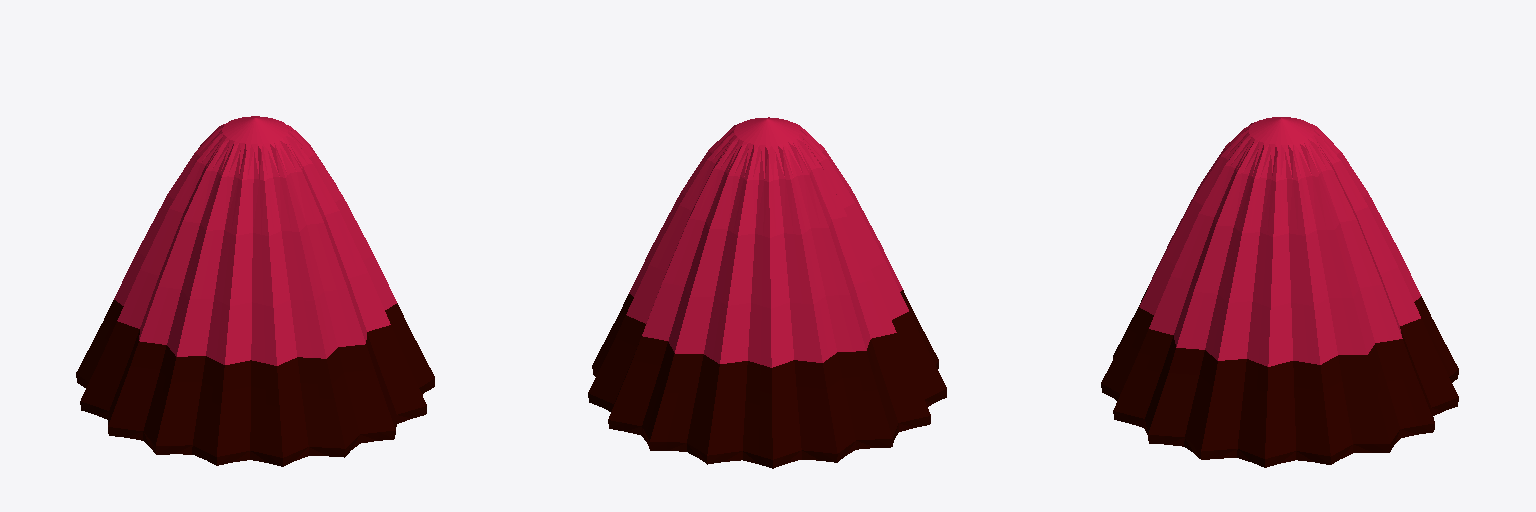
The model's file is apollo.obj.
3 views of the same model, side by side, from view 1: azimuth 30°, elevation 25°; view 2: azimuth 150°, elevation 25°; view 3: azimuth 270°, elevation 25° (orthographic).
Parts seen in each view (by area): view 1: apollo; view 2: apollo; view 3: apollo.
Part boxes in pixels (x1,y1,x2,y2): apollo: (76,116,434,466); apollo: (588,117,946,468); apollo: (1101,117,1458,467).
Bounding box in the file's own units: 1.23 × 1.04 × 1.23.